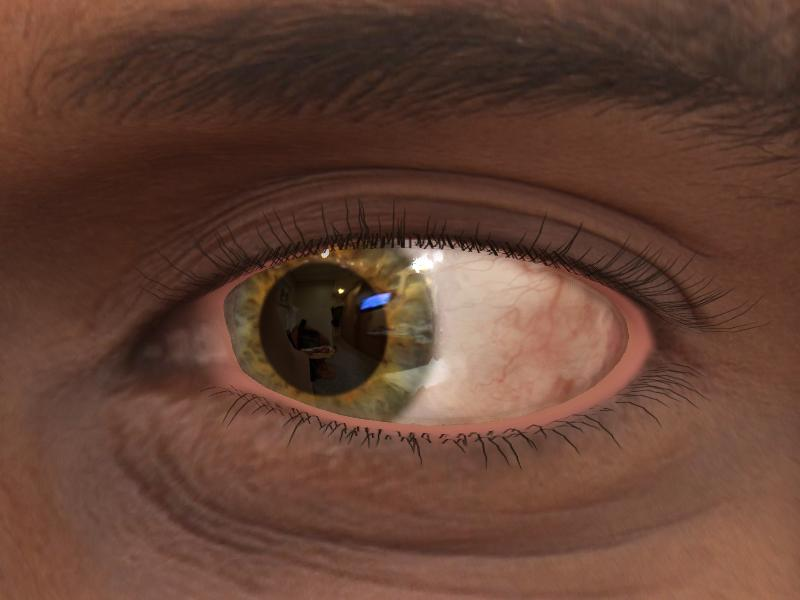eye: (224, 236, 436, 431)
